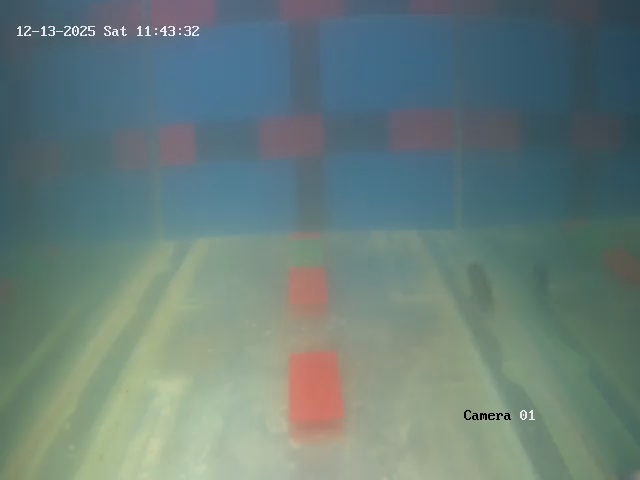fish: (463, 259, 498, 310)
